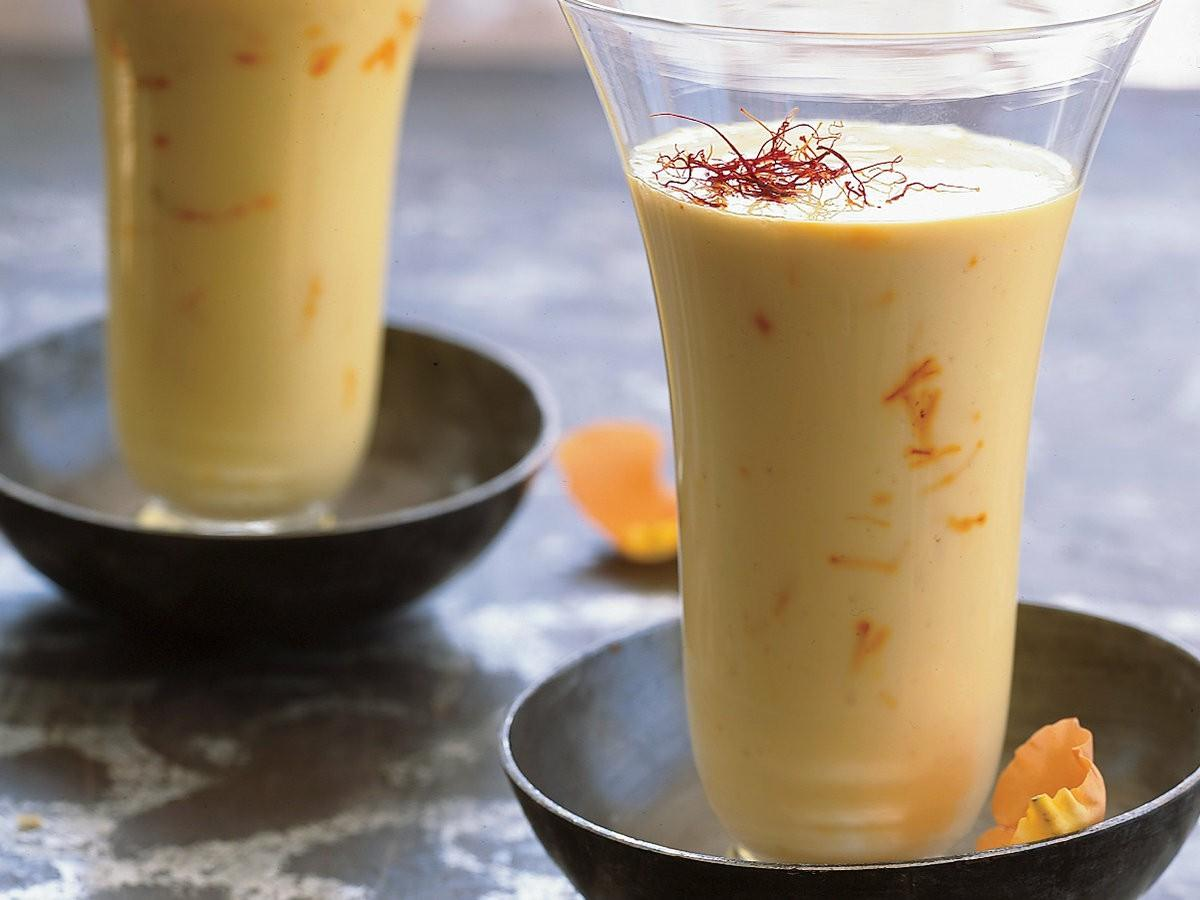Lassi: (626, 119, 1077, 867), (87, 0, 426, 519)
